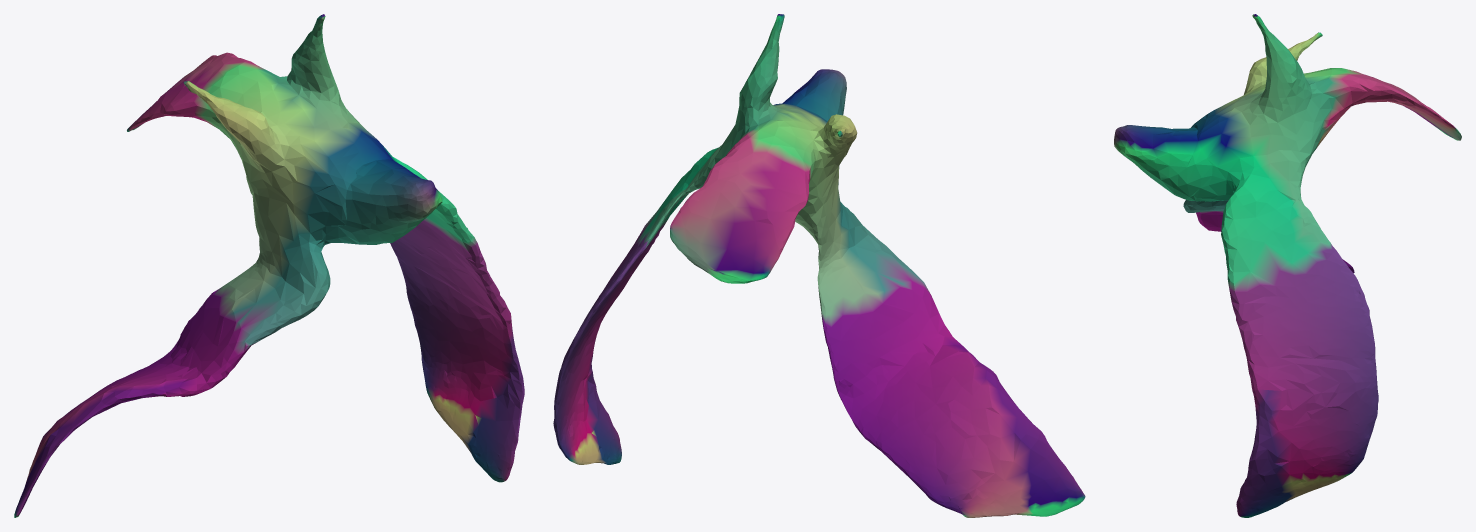
File: bird2-6.off.obj
The picture shows the model from 3 angles, left to right: view 1: azimuth 30°, elevation 25°; view 2: azimuth 150°, elevation 25°; view 3: azimuth 270°, elevation 25°; orthographic projection. The views are drawn at different scales.
Size of the model in its own units: 1.24 by 1.17 by 0.8506.
